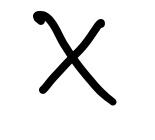mult: (33, 11, 117, 104)
